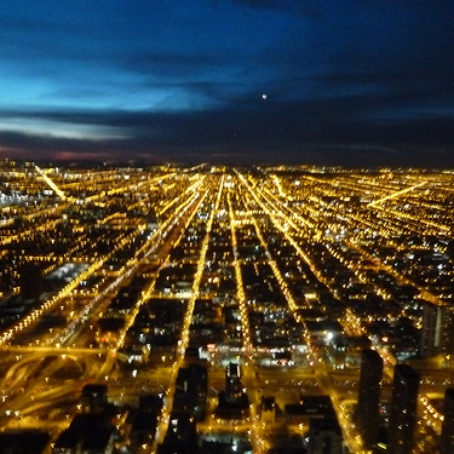sky: (1, 1, 454, 158)
